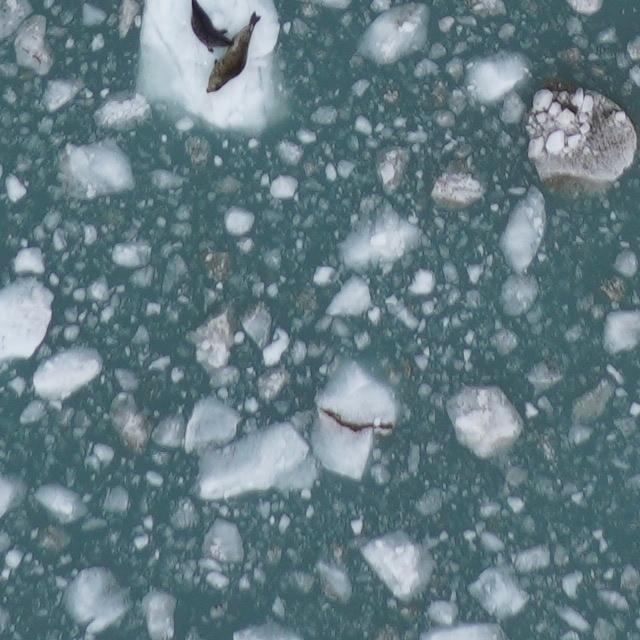seal: (203, 8, 264, 97), (186, 0, 238, 58)
